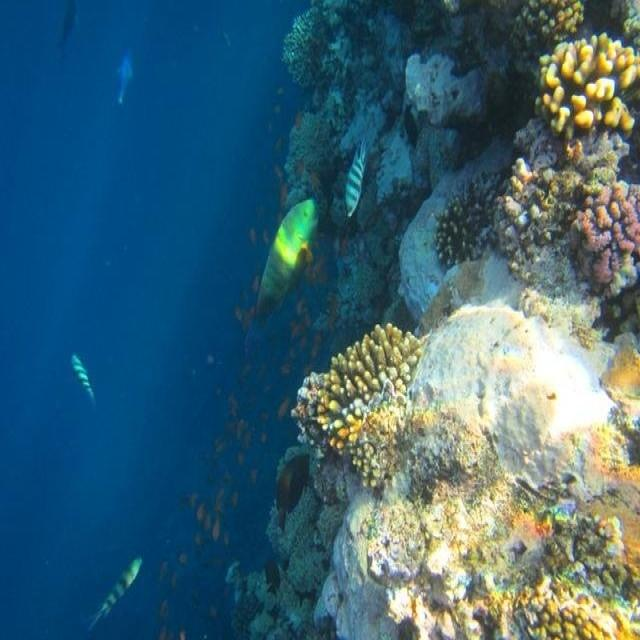fish: (237, 198, 319, 338), (82, 557, 143, 632), (277, 453, 309, 531), (345, 137, 369, 218), (72, 352, 94, 397)
reefs: (291, 321, 431, 494), (534, 32, 639, 140)
sea-floor: (314, 298, 638, 639)
